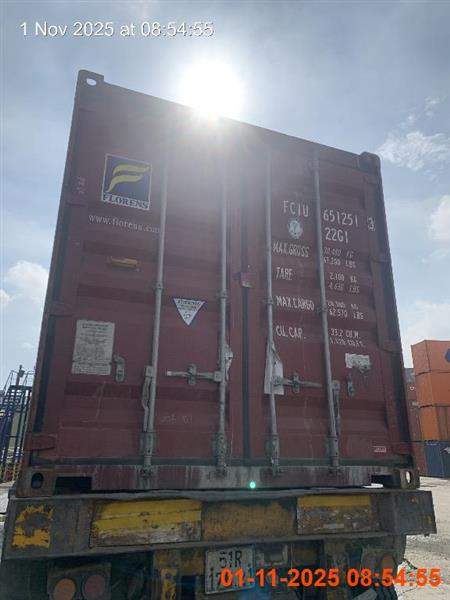broken: (0, 69, 437, 599)
